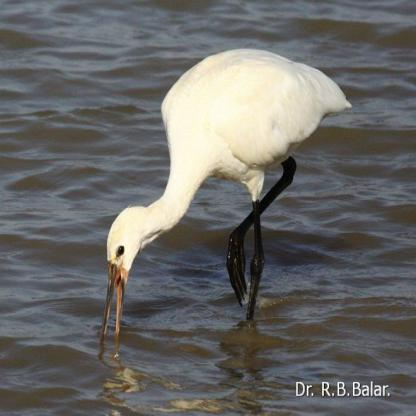Burung: (96, 48, 355, 342)
